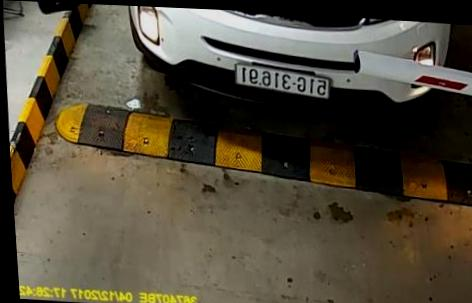License_Plate: (228, 63, 342, 111)
